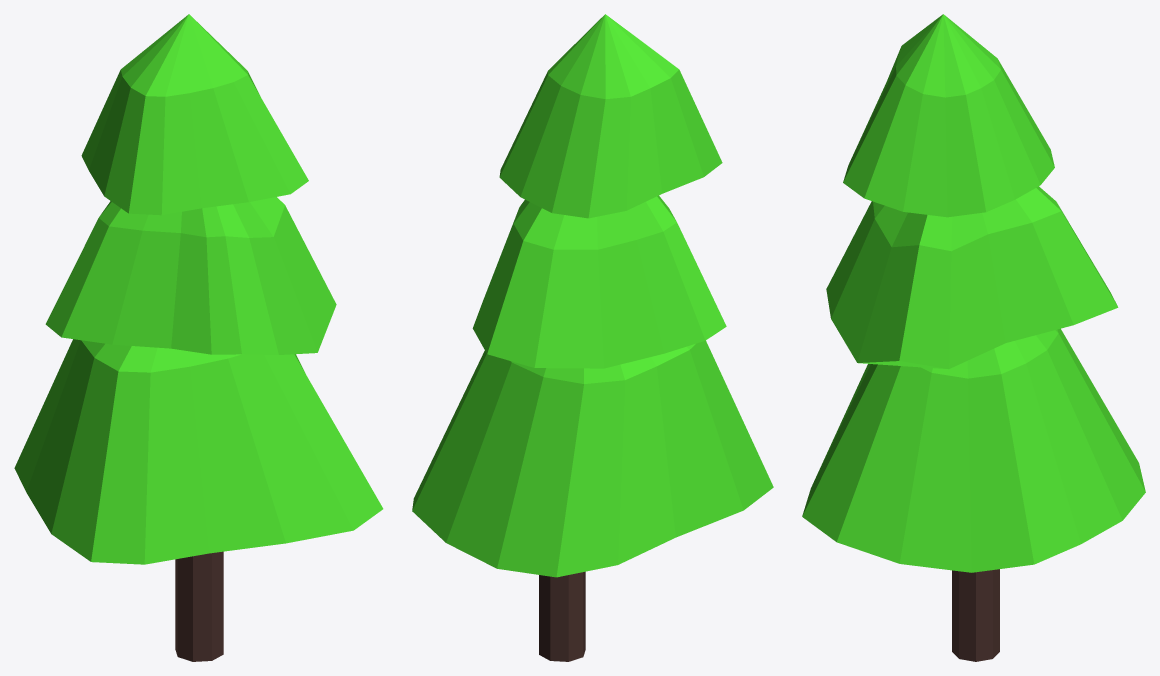
The model's file is TREE2.fbx.
3 renders of one model, left to right at view 1: azimuth 30°, elevation 25°; view 2: azimuth 150°, elevation 25°; view 3: azimuth 270°, elevation 25°, orthographic. The views are drawn at different scales.
Parts seen in each view (by area): view 1: Circle.002, Circle.004, Circle.005, Cylinder.001; view 2: Circle.002, Circle.004, Circle.005, Cylinder.001; view 3: Circle.002, Circle.004, Circle.005, Cylinder.001.
Boxes of the visible parts, x1,y1,x2,y2 form: Circle.002: [14, 339, 383, 564]; Circle.004: [45, 197, 336, 354]; Circle.005: [81, 14, 308, 215]; Cylinder.001: [175, 551, 223, 661]; Circle.002: [412, 340, 773, 577]; Circle.004: [472, 195, 726, 368]; Circle.005: [499, 14, 722, 218]; Cylinder.001: [539, 571, 585, 661]; Circle.002: [802, 328, 1145, 572]; Circle.004: [826, 186, 1118, 369]; Circle.005: [843, 14, 1054, 217]; Cylinder.001: [952, 569, 999, 661].
Bounding box in the file's own units: 179 × 381 × 190.
